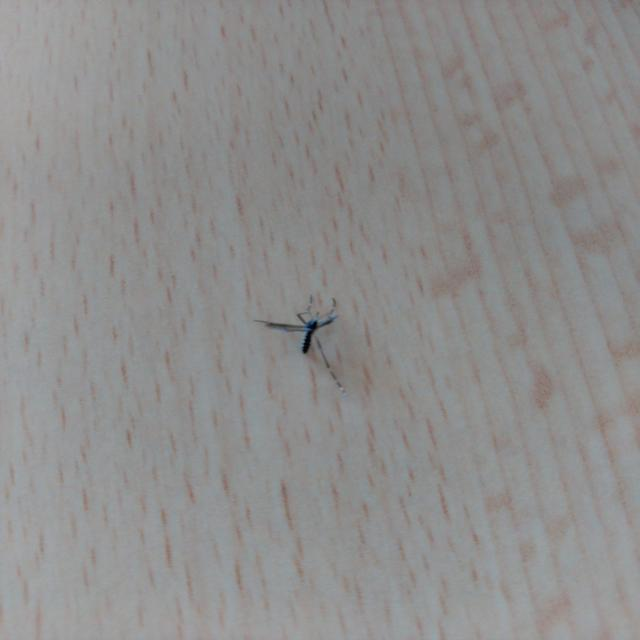albopictus: (248, 284, 353, 392)
